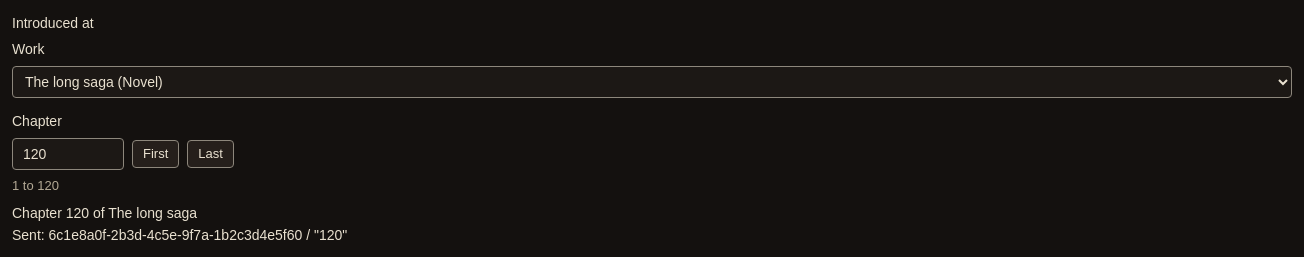
Scenario: PointField: the unit proposed when the work changes (FR-4) › replaces a unit typed by the person with the last unit of the new work, in an AUTHOR universe
Replace the text in the field labelled "Chapter" with "7" at {"x": 68, "y": 154}, box [12,138,124,170]
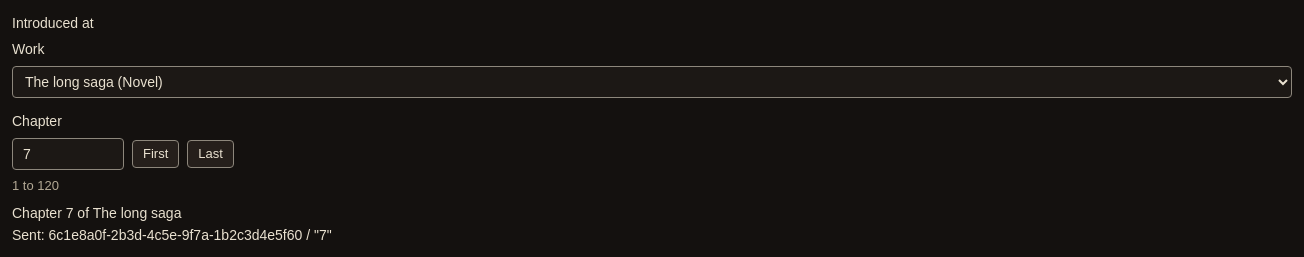
Select "The adaptation (Anime)" in the dropdown labelled "Work" at {"x": 652, "y": 82}, box [12,66,1292,98]
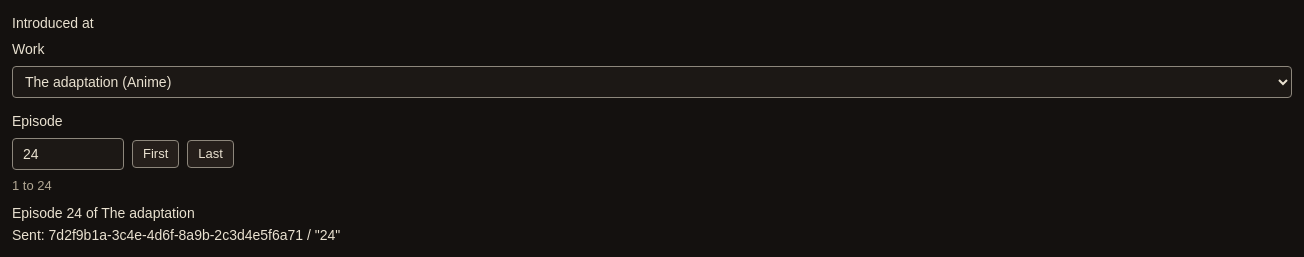
Expected: the field labelled "Episode" holds "24", [12,138,124,170]
